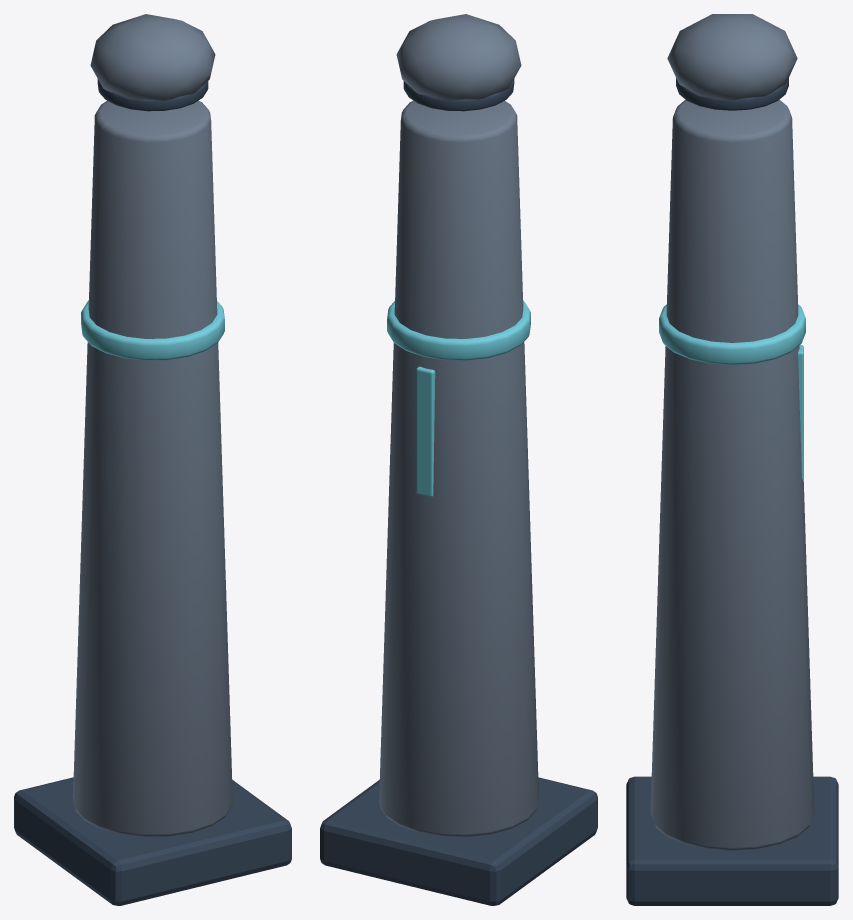
The model's file is Totem_B.fbx.
The picture shows the model from 3 angles, left to right: view 1: azimuth 30°, elevation 25°; view 2: azimuth 150°, elevation 25°; view 3: azimuth 270°, elevation 25°; orthographic projection.
Parts seen in each view (by area): view 1: Totem_B; view 2: Totem_B; view 3: Totem_B.
Part boxes in pixels (<box>): Totem_B: <box>14,14,291,905</box>; Totem_B: <box>320,14,597,905</box>; Totem_B: <box>626,14,838,905</box>.
Bounding box in the file's own units: 1.5 × 6.58 × 1.5.
